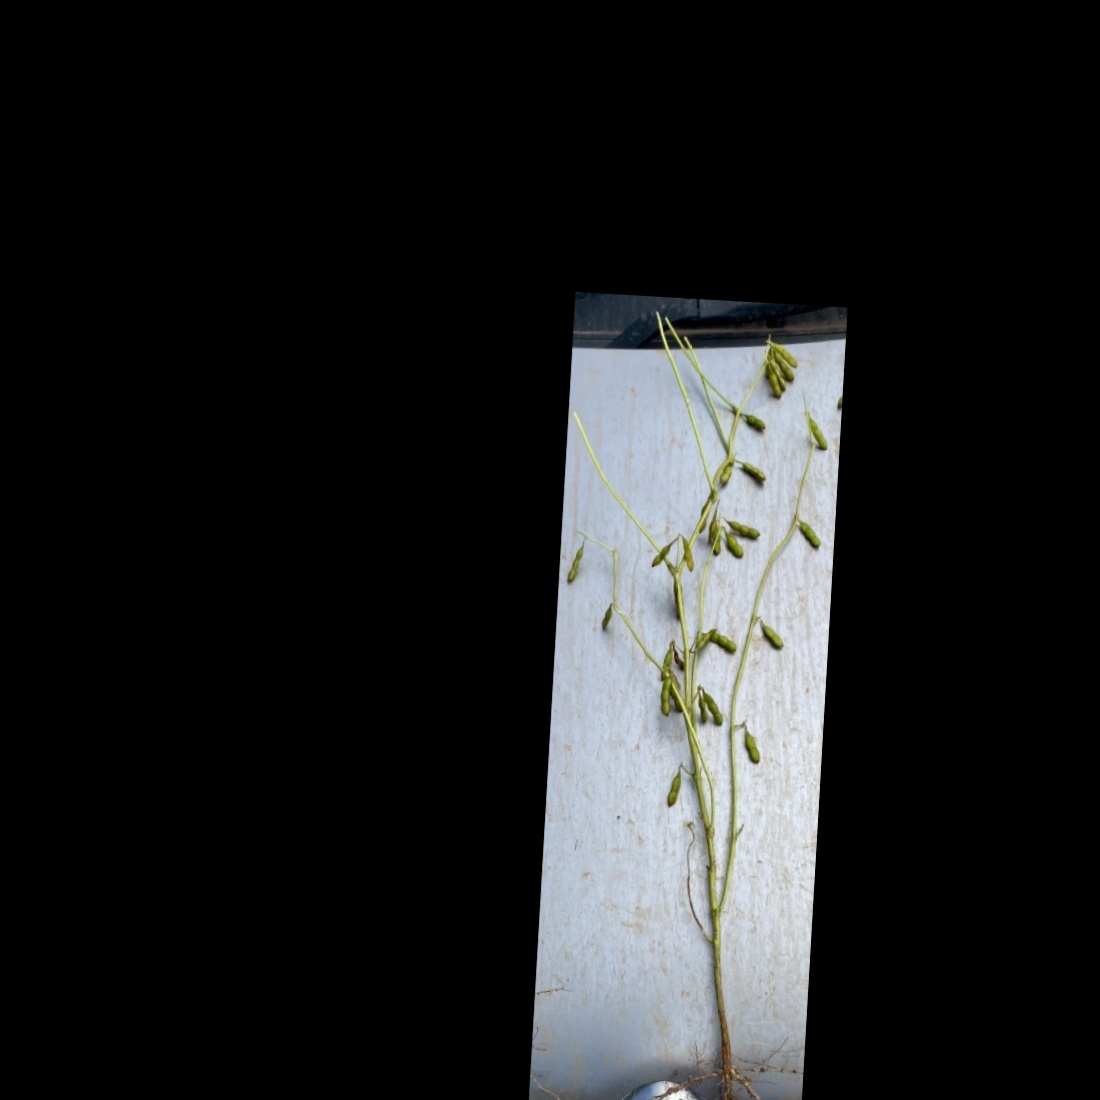pod: (736, 718, 764, 766), (661, 760, 685, 811), (564, 541, 587, 586), (700, 690, 727, 728), (647, 534, 677, 568), (724, 516, 768, 539), (675, 533, 697, 575), (706, 627, 740, 654), (796, 518, 824, 550), (691, 623, 717, 657), (757, 622, 786, 650), (658, 671, 673, 725), (808, 416, 830, 451), (737, 459, 768, 482), (741, 412, 772, 434), (724, 533, 747, 561), (693, 694, 709, 727), (716, 461, 736, 486), (597, 602, 613, 632)
soy: (531, 307, 841, 1100)
